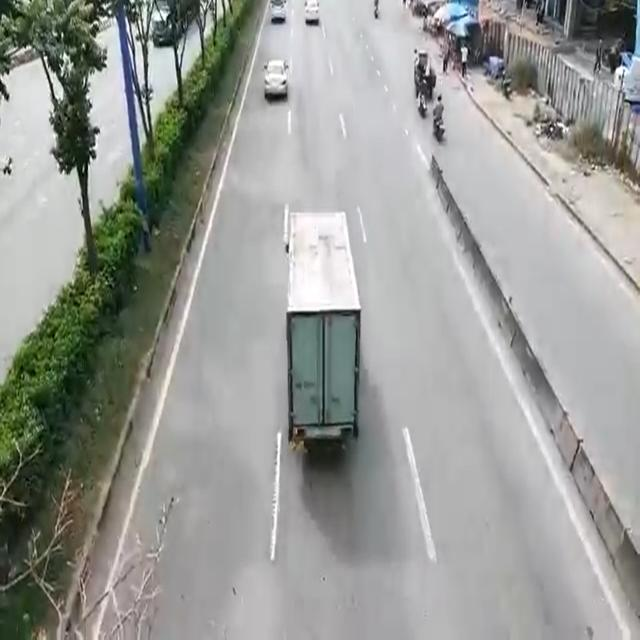car: (260, 59, 287, 102)
truck: (289, 209, 361, 456)
